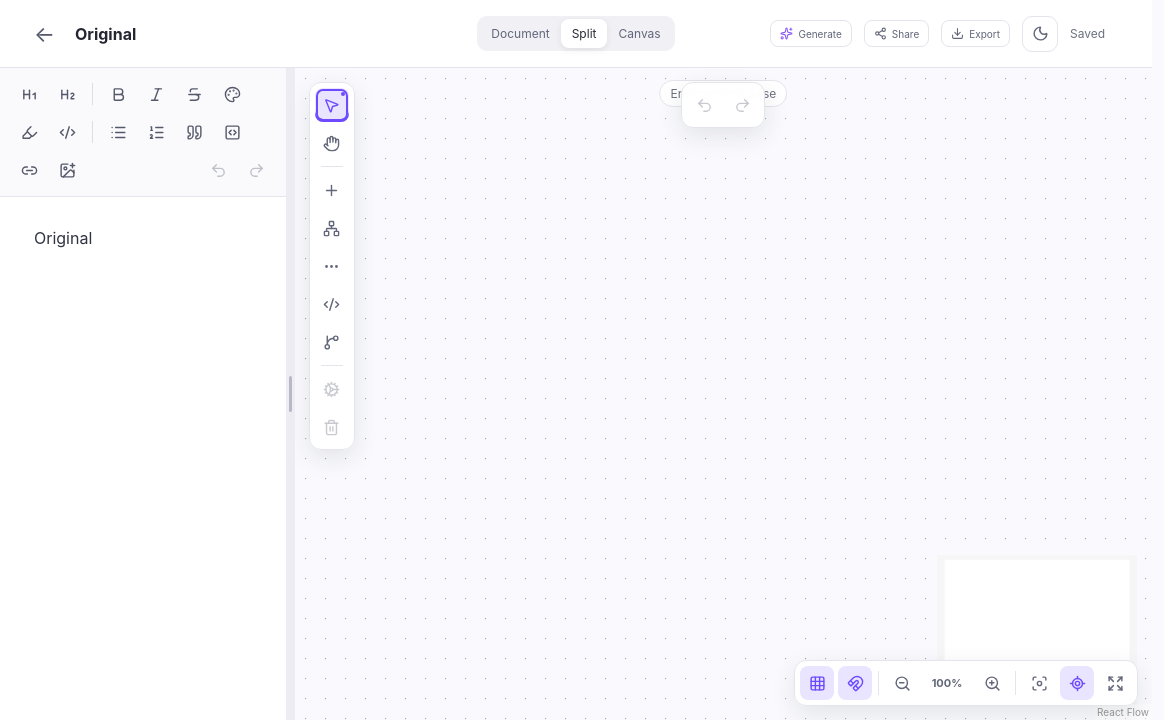
Scenario: Editor conflict recovery › keeps the local draft after a network failure and retries explicitly
Replace the text in the field named "Project name" with "Network-safe draft" at (253, 34), box [73,22,433,44]
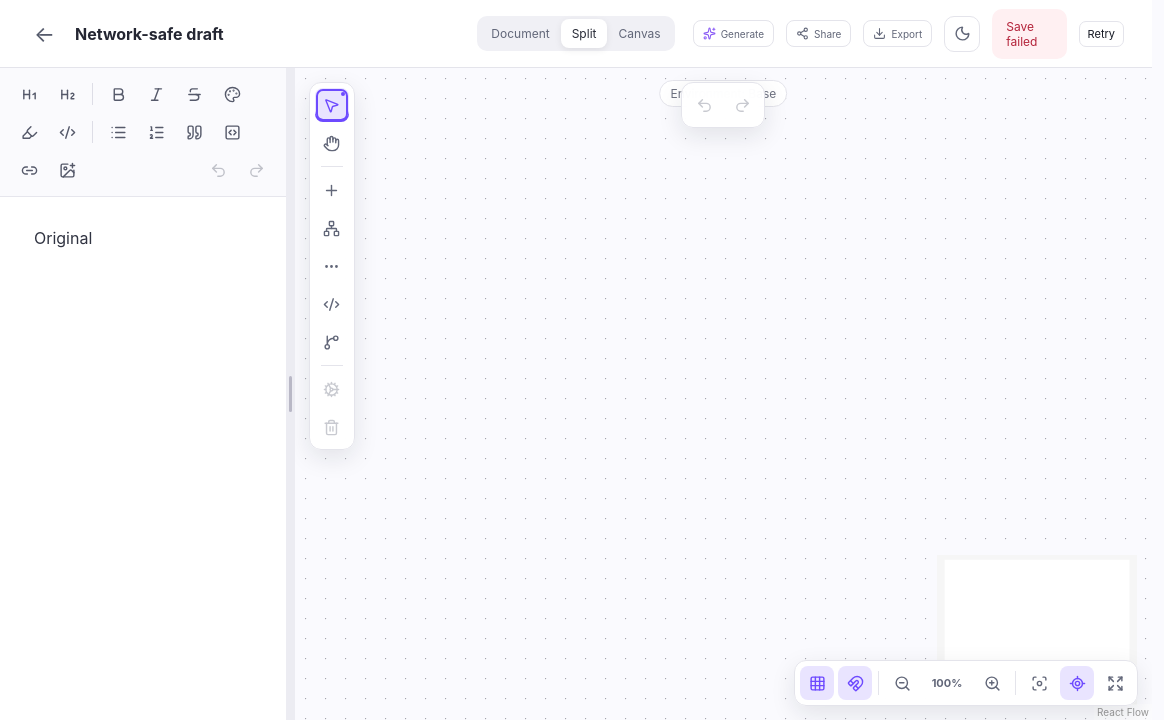
Check: the text "Save failed" is shown, box [992,8,1066,58]
Click the button "Retry" at (1101, 34), box [1079,20,1124,46]
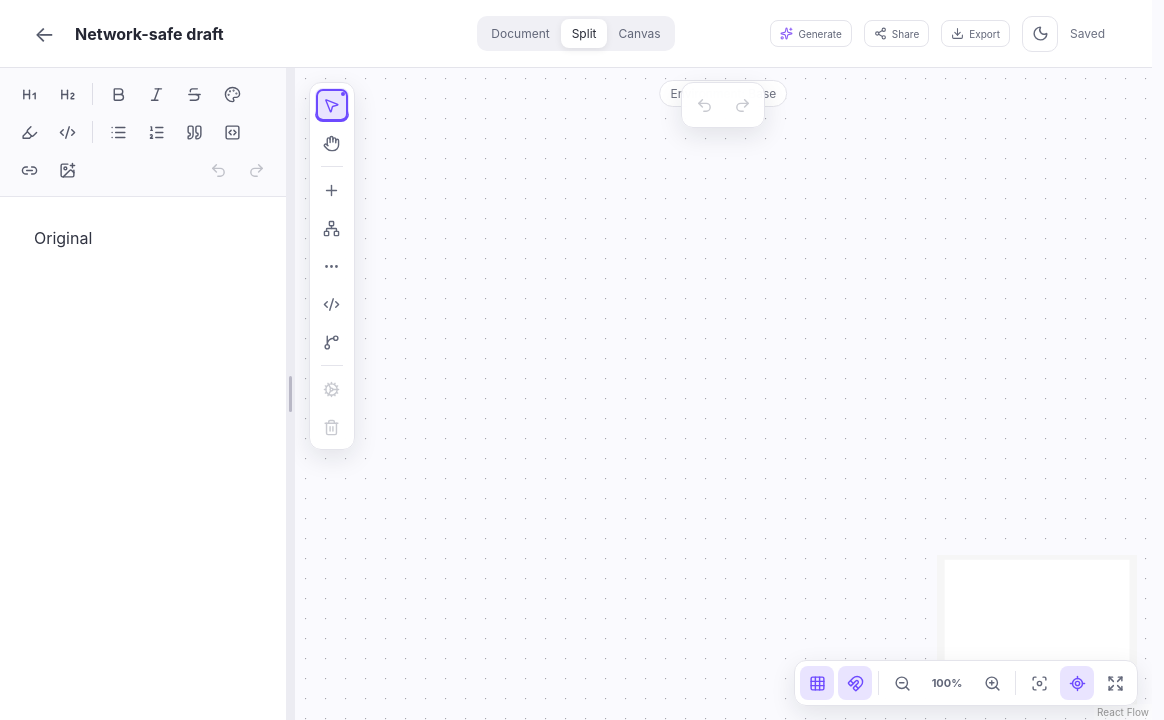
Check: the text "Saved" is shown, box [1070,26,1105,41]
